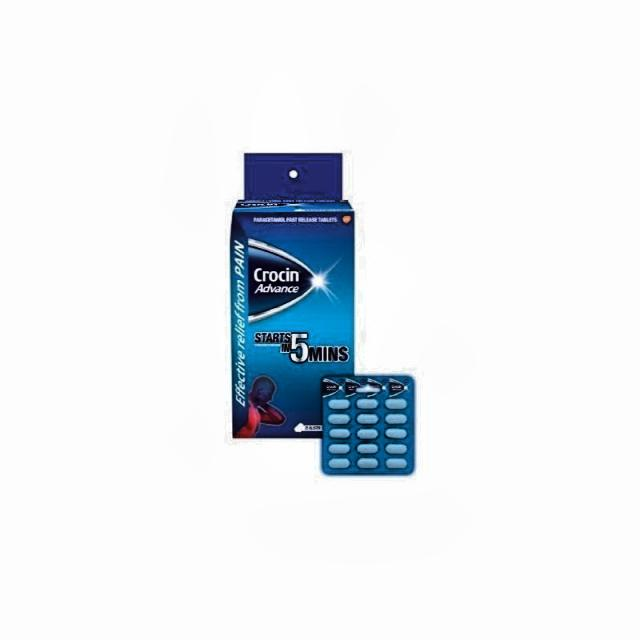Crocin: (246, 238, 324, 318)
